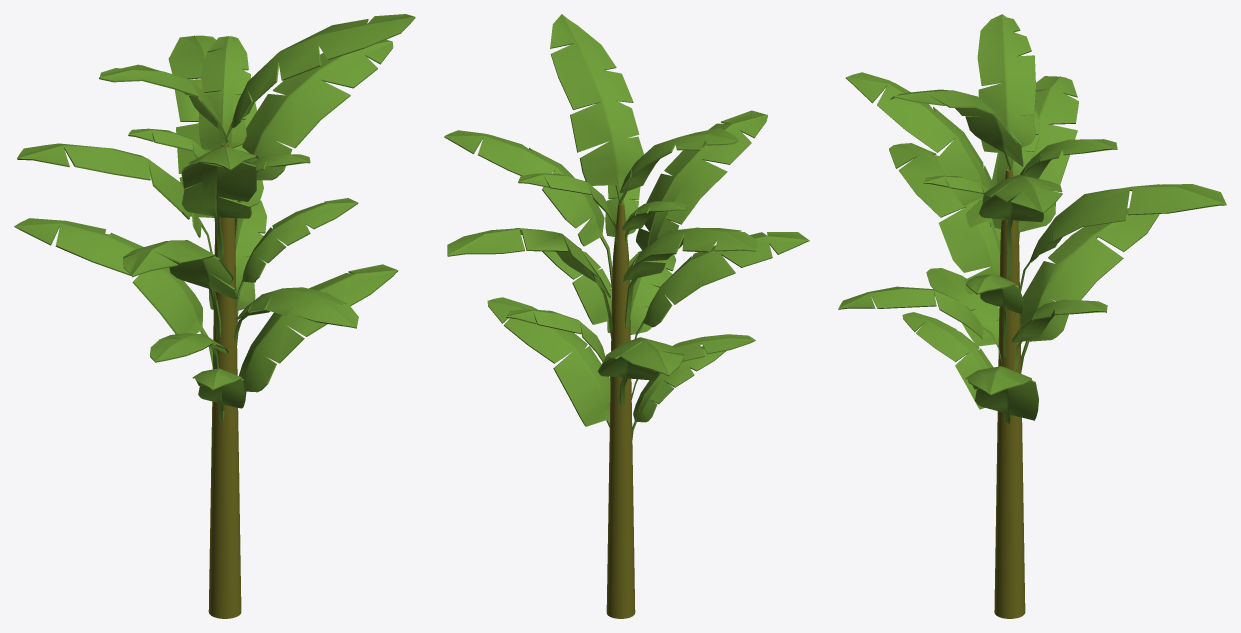
Rendered from BananaTreeDefault.fbx.
3 renders of one model, left to right at view 1: azimuth 30°, elevation 25°; view 2: azimuth 150°, elevation 25°; view 3: azimuth 270°, elevation 25°, orthographic. The views are drawn at different scales.
Visible parts, largest first — view 1: Leaves, Trunk; view 2: Leaves, Trunk; view 3: Leaves, Trunk.
Part boxes in pixels (x1,y1,x2,y2): Leaves: [14, 14, 415, 421]; Trunk: [208, 143, 241, 618]; Leaves: [444, 14, 809, 439]; Trunk: [606, 203, 635, 618]; Leaves: [838, 14, 1226, 423]; Trunk: [994, 168, 1025, 618].
Bounding box in the file's own units: 251 × 399 × 244.
